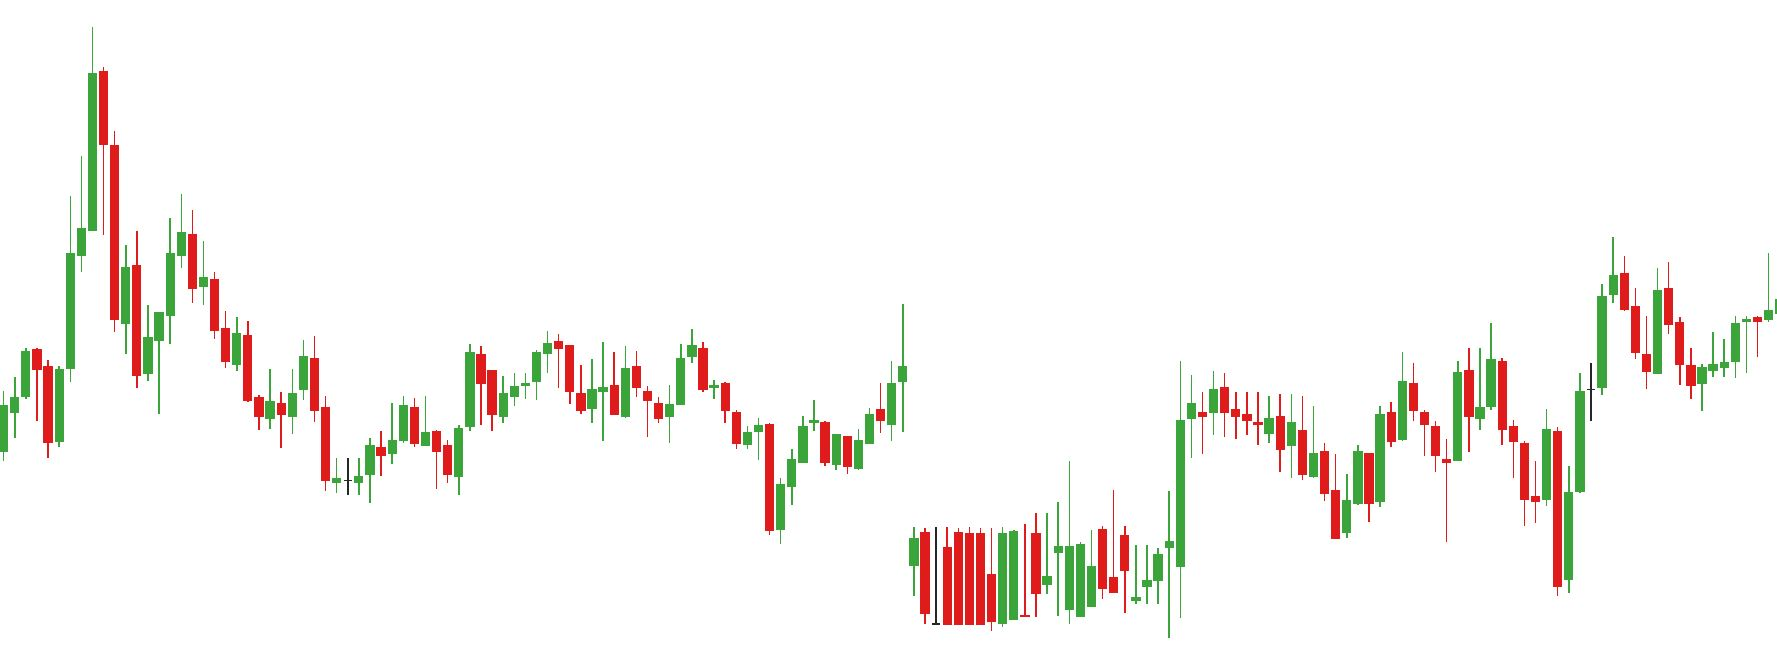sell: (131, 191, 197, 338), (617, 327, 709, 408)
